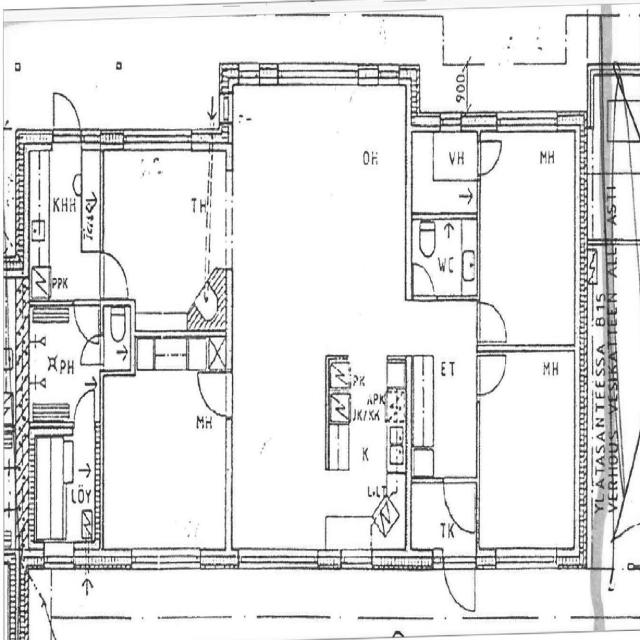door: (441, 475, 479, 538), (442, 553, 477, 614), (50, 86, 83, 145), (195, 367, 231, 418), (99, 246, 132, 298), (475, 349, 509, 399), (476, 298, 510, 346), (70, 385, 100, 429), (72, 300, 102, 344), (476, 135, 504, 179), (76, 327, 105, 368), (410, 260, 437, 302)
window: (492, 546, 560, 577), (238, 547, 307, 576), (121, 128, 194, 155), (498, 110, 561, 140), (146, 545, 202, 576), (505, 337, 574, 362), (130, 548, 172, 575), (44, 544, 79, 574), (339, 550, 374, 573), (376, 62, 402, 88), (438, 113, 464, 136)
zone: (100, 344, 231, 561), (477, 350, 577, 563), (100, 148, 217, 330), (479, 132, 576, 350), (411, 136, 481, 306), (28, 147, 101, 304), (22, 303, 102, 433), (34, 429, 100, 555), (604, 70, 640, 244), (411, 131, 478, 216), (100, 301, 134, 373), (443, 478, 479, 537)
